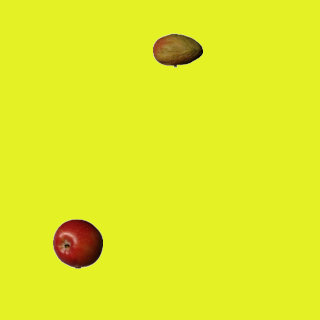Apple Braeburn: (52, 218, 102, 268)
Papaya: (152, 25, 202, 75)
